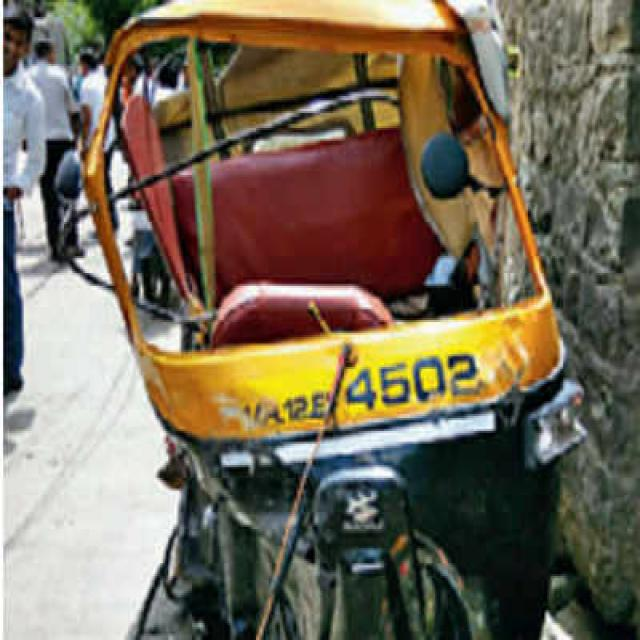accident: (84, 2, 585, 638)
